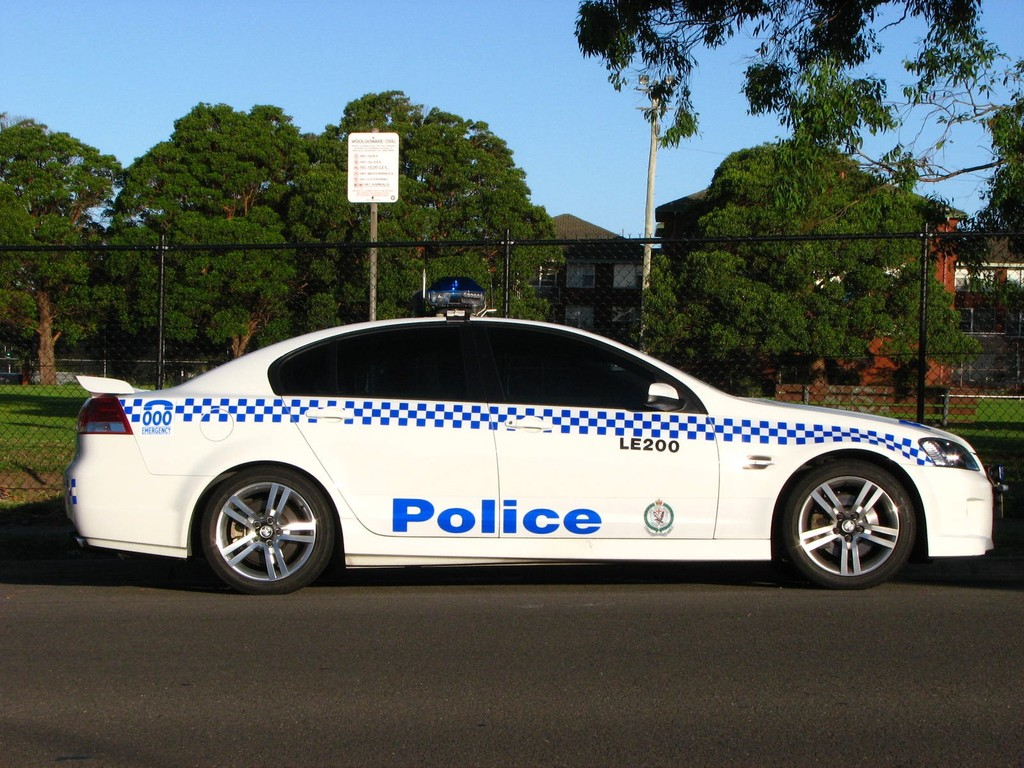mobil: (53, 280, 1024, 630)
